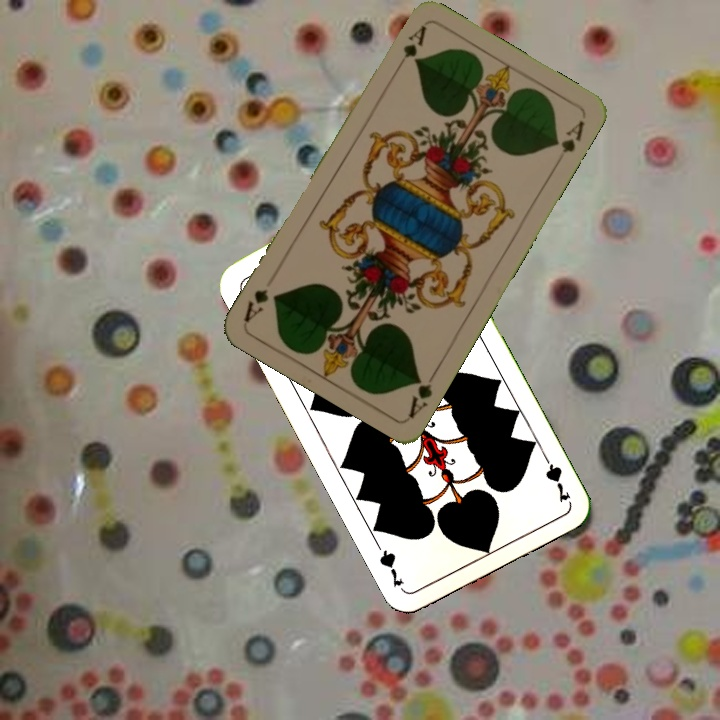G7: (538, 448, 573, 505)
GA: (391, 22, 429, 75), (405, 365, 440, 420)
